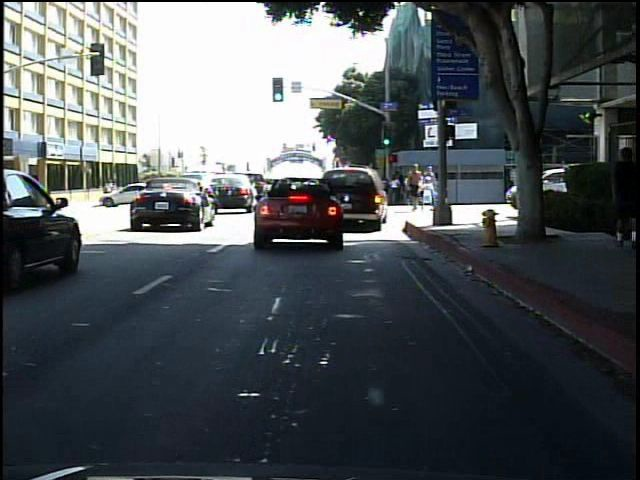person: (604, 138, 634, 251), (404, 161, 425, 215), (419, 177, 435, 209), (101, 178, 116, 194)
